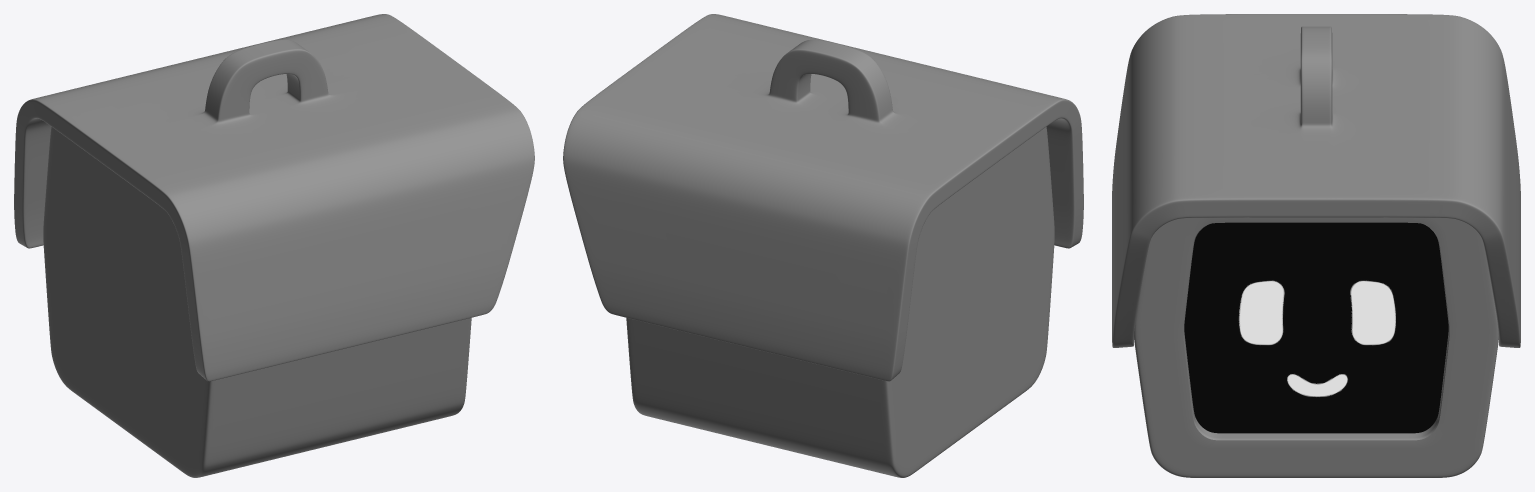
File: otis_shell_v2.glb
3 views of the same model, side by side, from view 1: azimuth 30°, elevation 25°; view 2: azimuth 150°, elevation 25°; view 3: azimuth 270°, elevation 25° (orthographic). The views are drawn at different scales.
Visible parts, largest first — view 1: roof, ccase; view 2: roof, ccase; view 3: roof, fafce, ccase.
Part boxes in pixels (bbox=[...]): roof: bbox=[14, 14, 534, 381]; ccase: bbox=[43, 127, 471, 477]; roof: bbox=[563, 14, 1083, 381]; ccase: bbox=[626, 127, 1054, 477]; roof: bbox=[1112, 14, 1520, 347]; fafce: bbox=[1184, 222, 1448, 433]; ccase: bbox=[1134, 217, 1498, 477].
Bounding box in the file's own units: 2.69 × 2.55 × 2.51.
2 materials, 1 textured.
